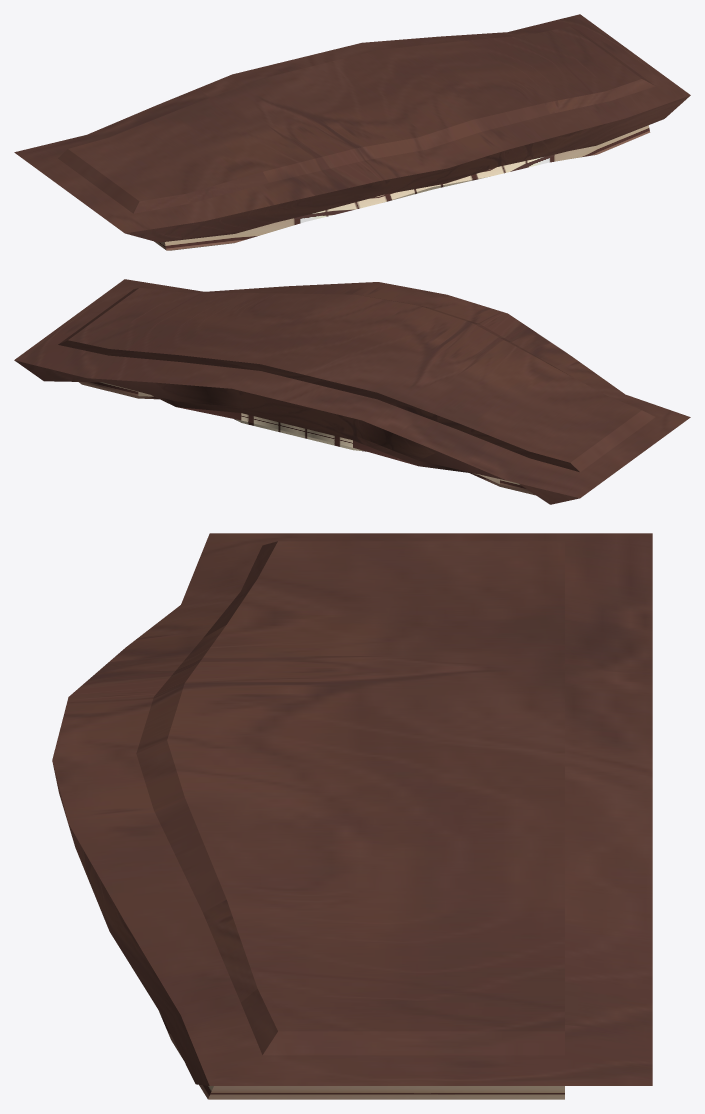
Rendered from balconi_top.FBX.
3 views of the same model, one above another, from view 1: azimuth 30°, elevation 25°; view 2: azimuth 150°, elevation 25°; view 3: azimuth 270°, elevation 25° (orthographic). The views are drawn at different scales.
Parts seen in each view (by area): view 1: Box094; view 2: Box094; view 3: Box094.
Boxes of the visible parts, x1,y1,x2,y2 form: Box094: (14, 14, 690, 250); Box094: (14, 279, 690, 504); Box094: (52, 533, 652, 1099).
Size of the model in its own units: 449 by 48.66 by 206.
